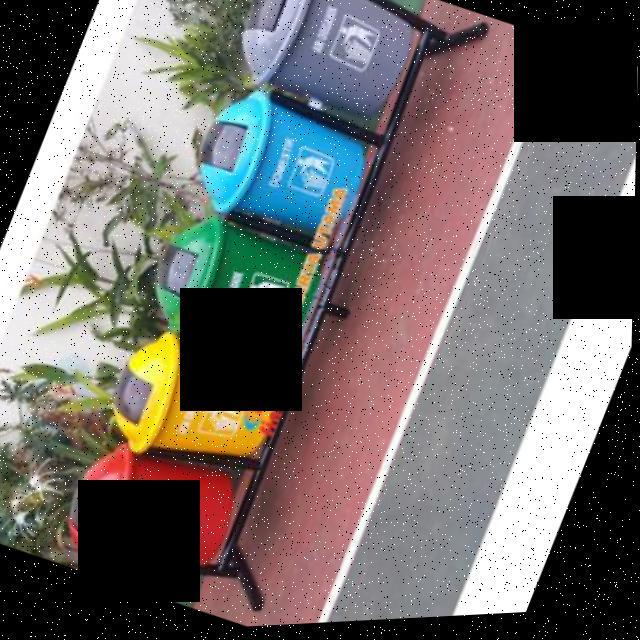bin: (174, 72, 387, 268), (48, 424, 256, 618), (129, 198, 336, 382), (94, 315, 304, 496), (214, 0, 449, 149)
